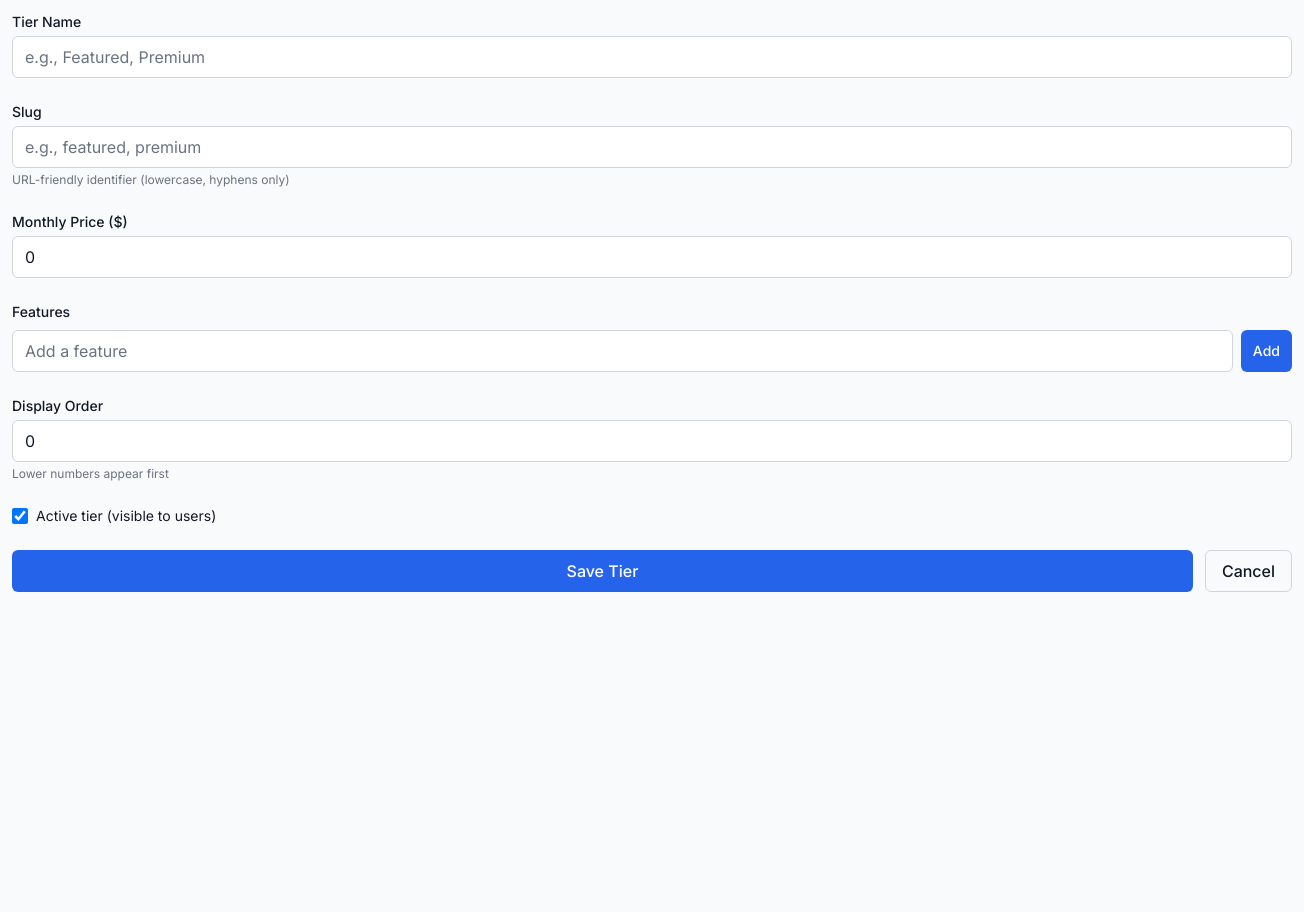
it: TierForm Component › Slug Validation › should not allow duplicate slugs
This screenshot has width=1304, height=912.
Type "Test" into the field labelled "Tier Name" at (652, 57), box left=12, top=36, right=1292, bottom=78
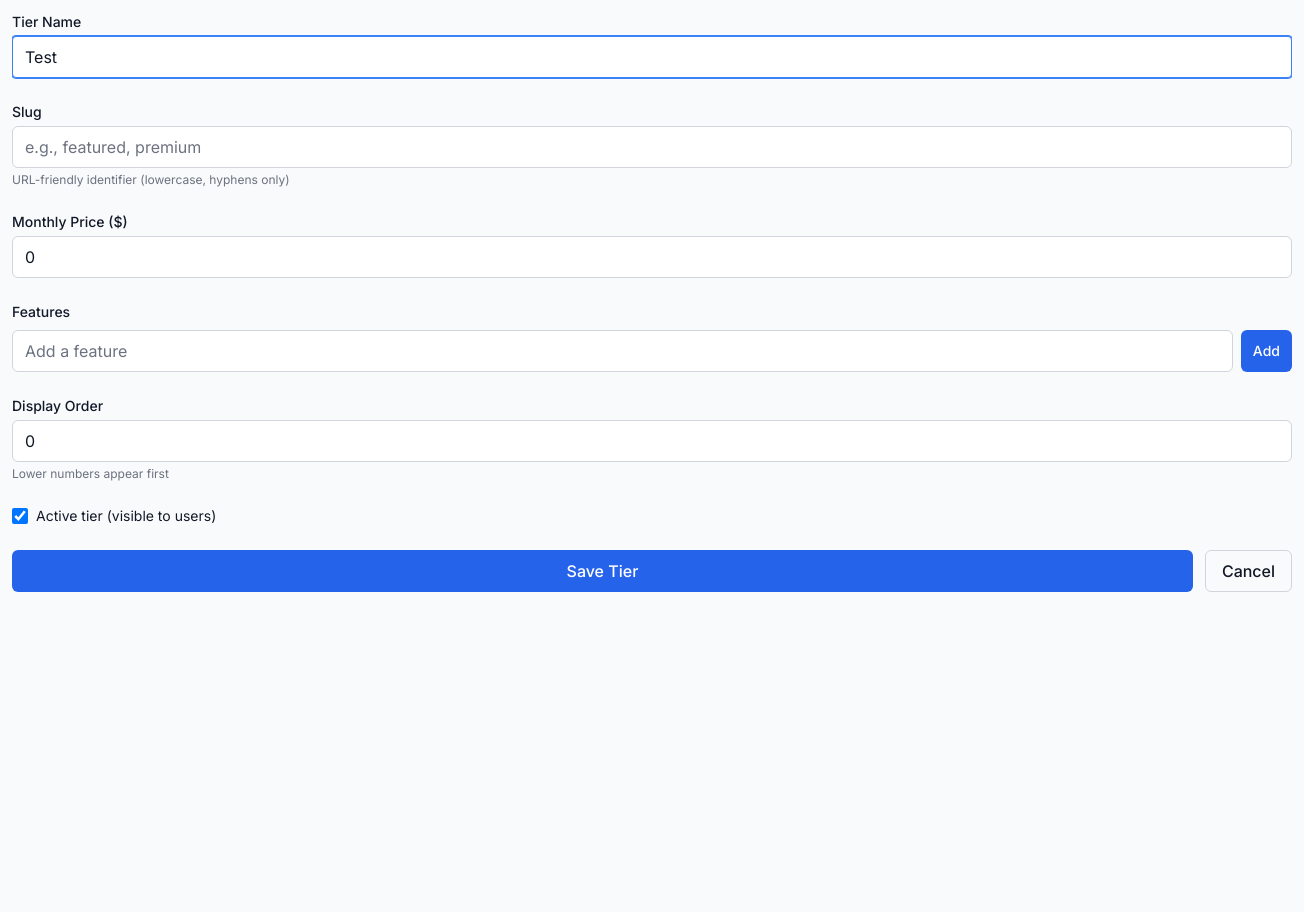
Type "featured" into the field labelled "Slug" at (652, 147), box left=12, top=126, right=1292, bottom=168
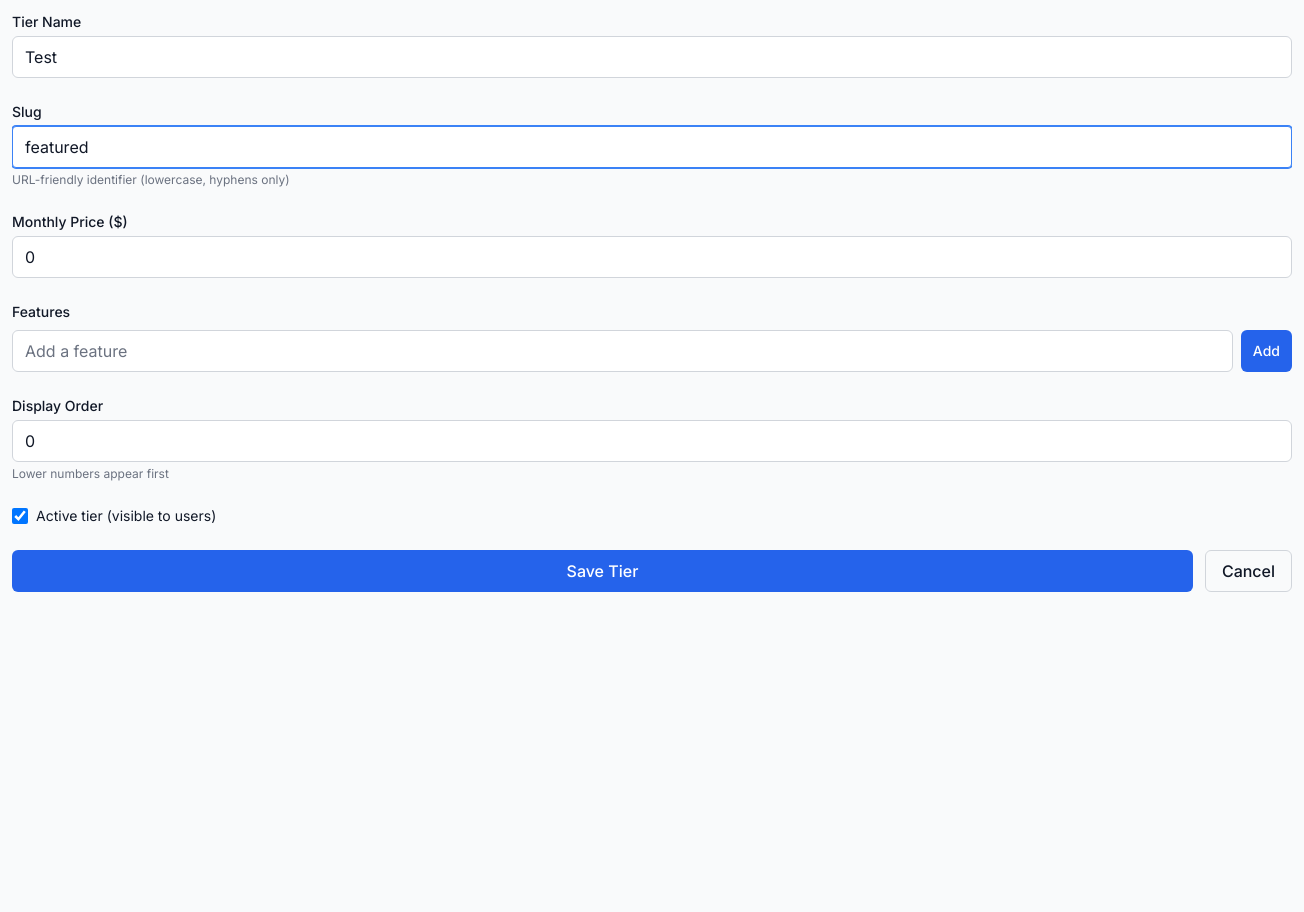
Type "99.99" into the number field labelled "Monthly Price ($)" at (652, 257), box left=12, top=236, right=1292, bottom=278
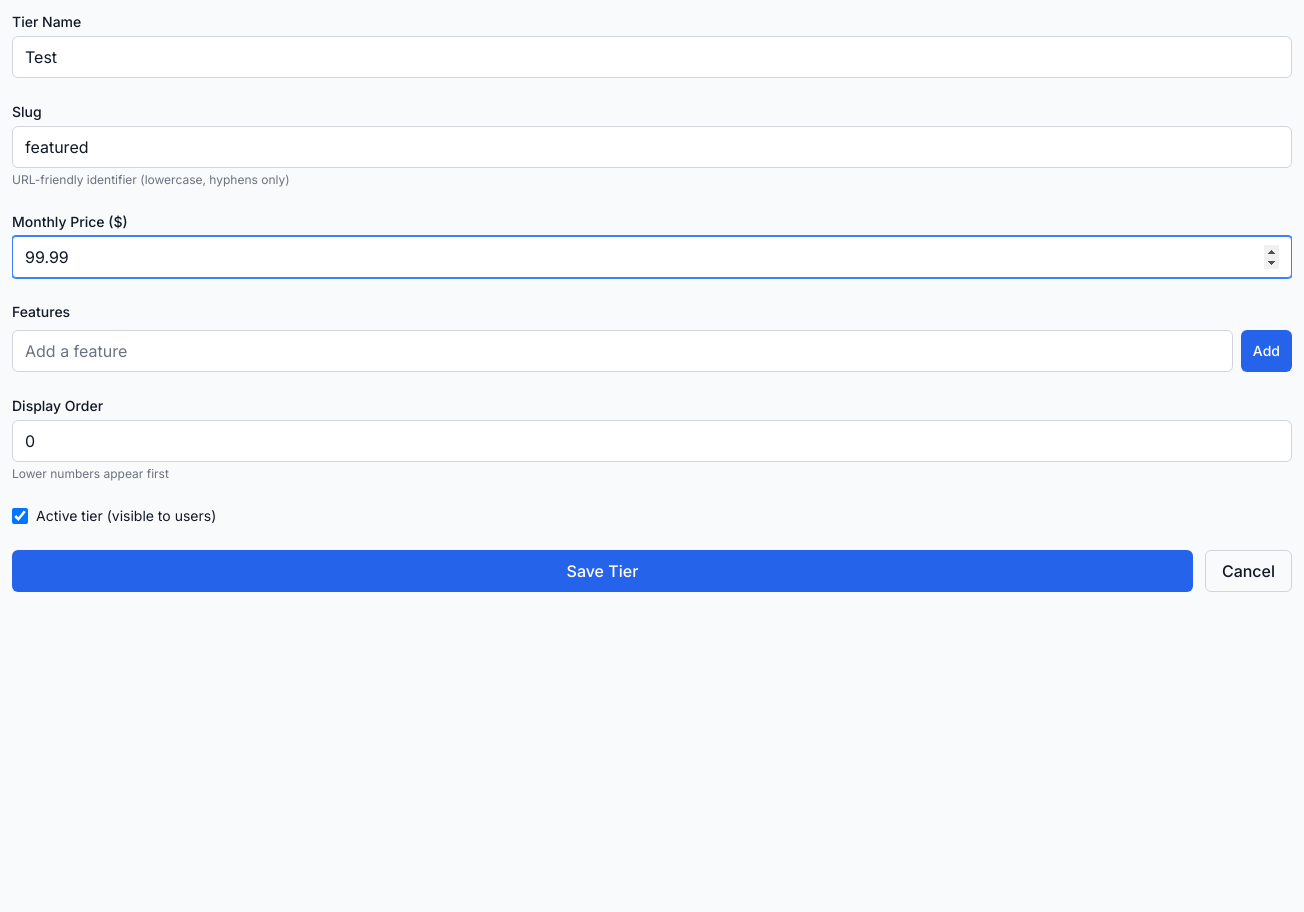
Type "Feature" into the field with placeholder "Add a feature" at (622, 351), box left=12, top=330, right=1233, bottom=372
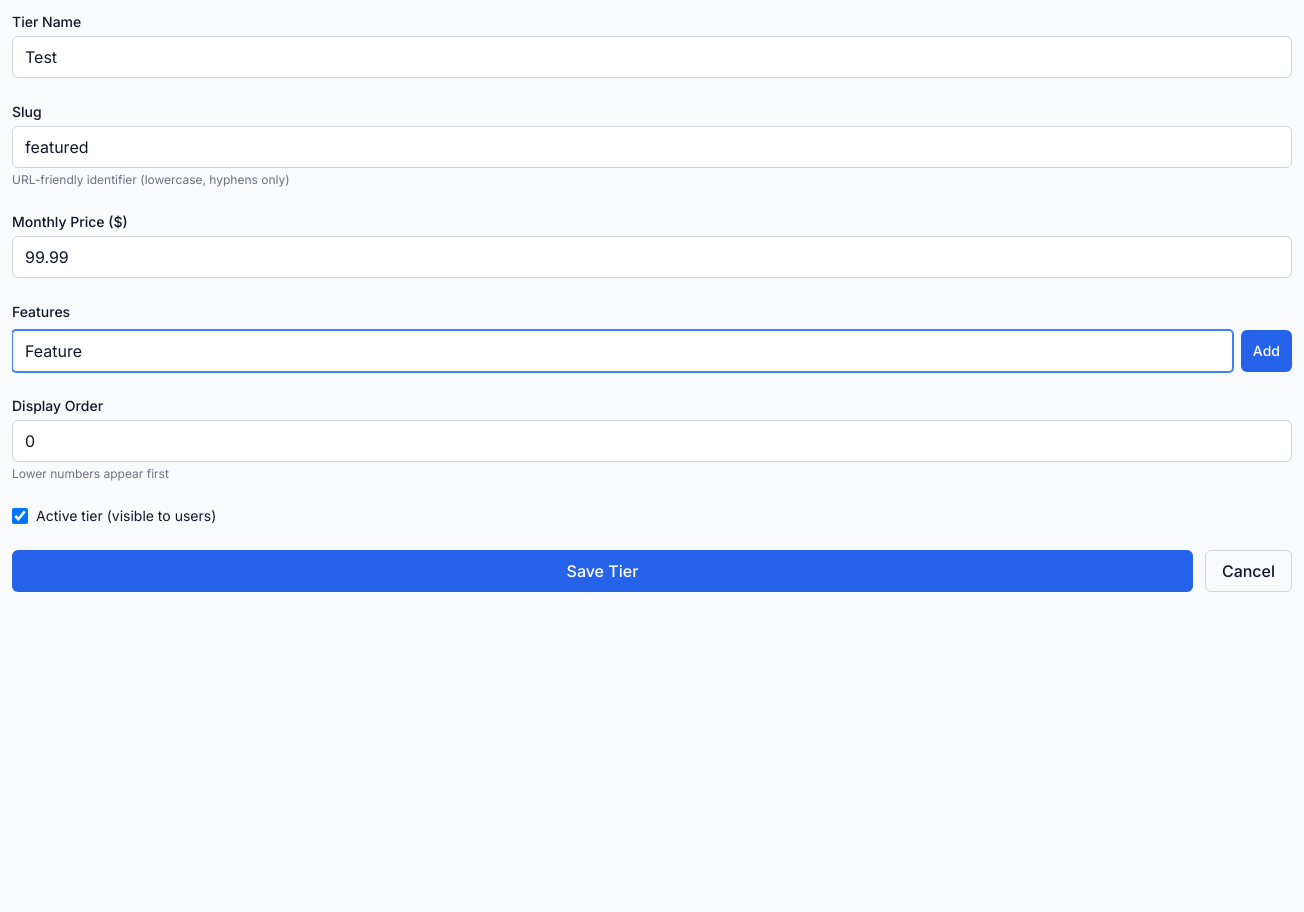
Click the button "Add" at (1266, 351), box left=1241, top=330, right=1292, bottom=372
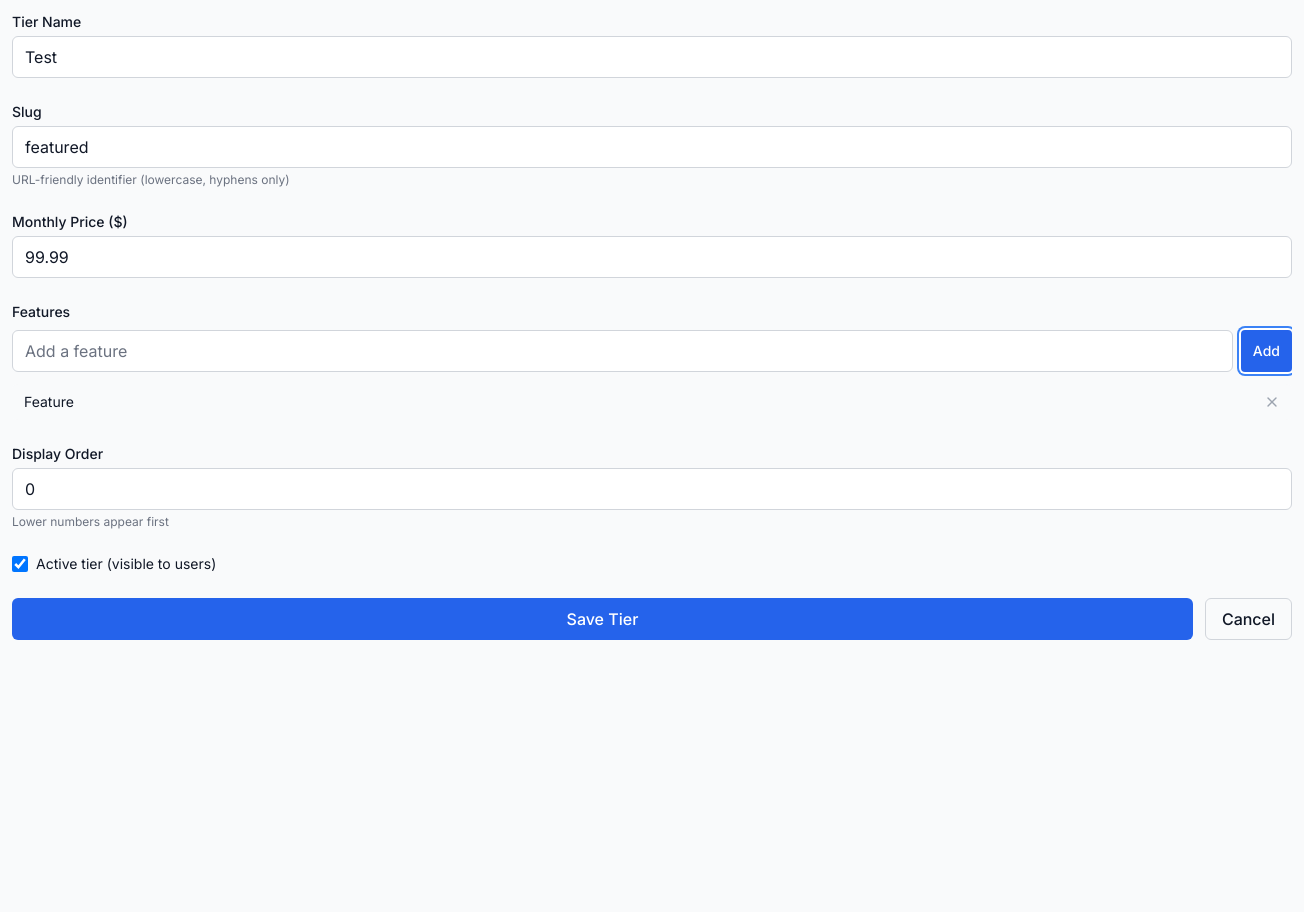
Click the button "Save Tier" at (602, 619), box left=12, top=598, right=1193, bottom=640
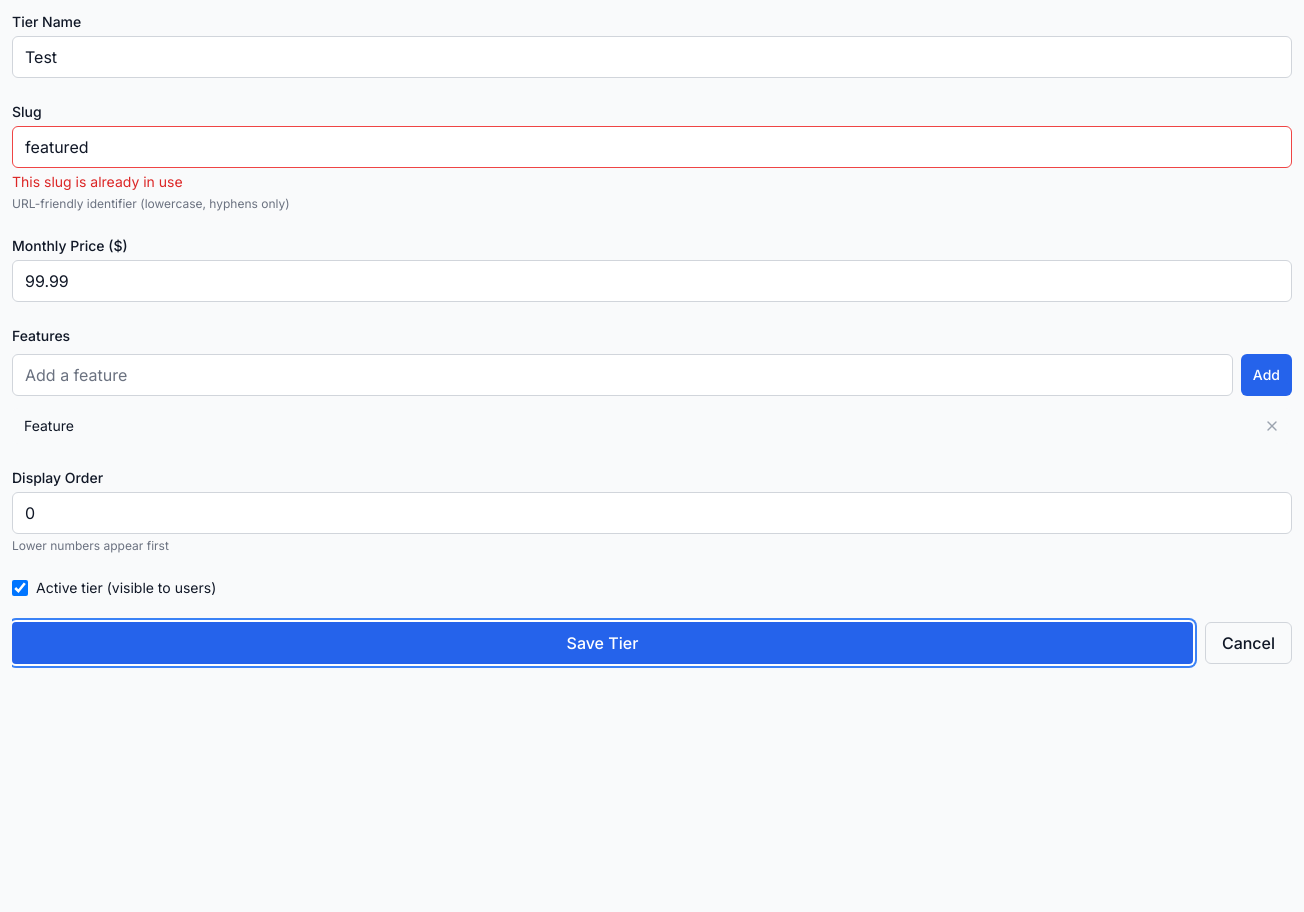
Check: the text "This slug is already in use" is shown, box left=12, top=173, right=183, bottom=190
